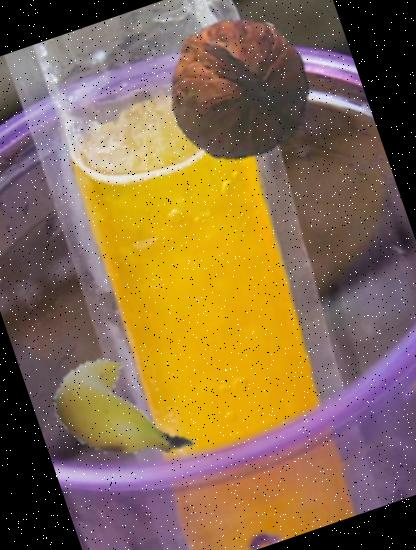Banana: (32, 314, 216, 498)
Walnut: (146, 0, 332, 181)
